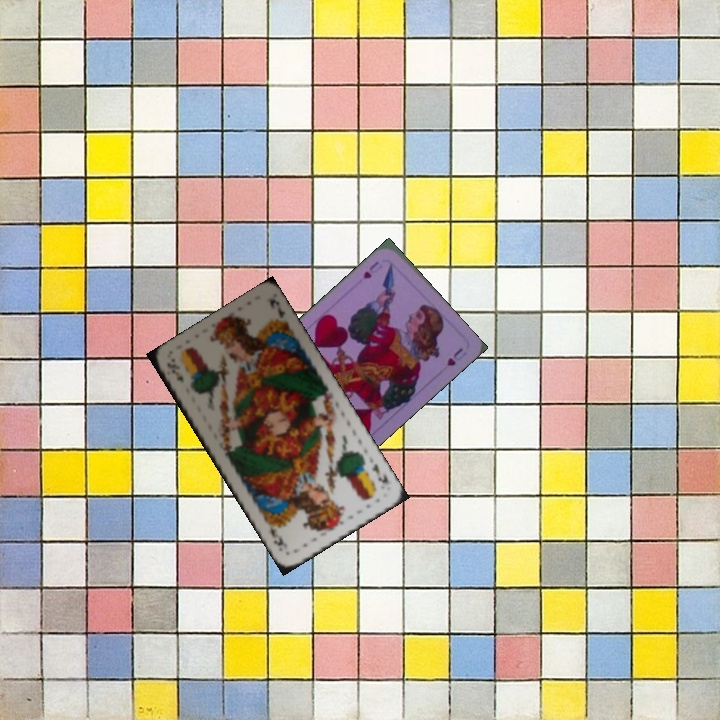EK: (162, 358, 186, 385), (368, 459, 391, 487)
HU: (358, 257, 385, 282)
